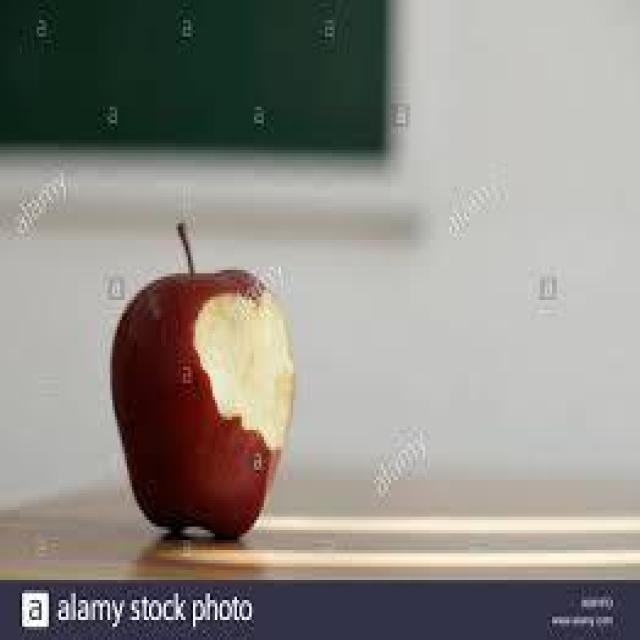maca: (107, 220, 296, 540)
